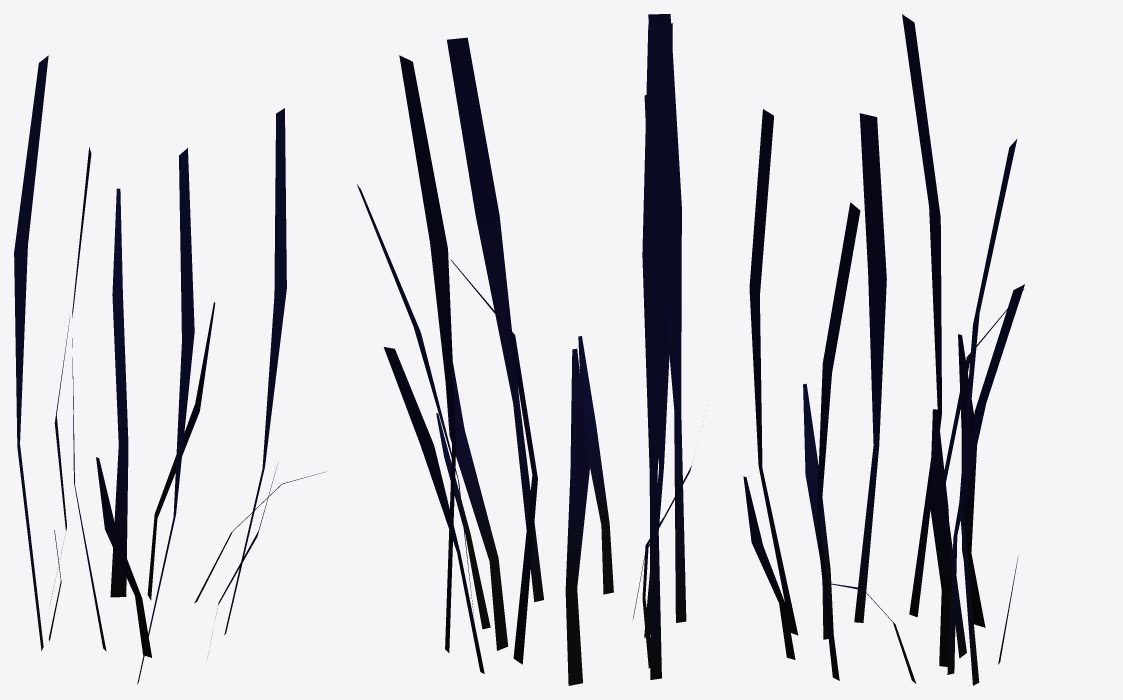
The model's file is SM_Foliage_ReedDry_02.fbx.
The picture shows the model from 3 angles, left to right: view 1: azimuth 30°, elevation 25°; view 2: azimuth 150°, elevation 25°; view 3: azimuth 270°, elevation 25°; orthographic projection. The views are drawn at different scales.
Parts seen in each view (by area): view 1: SM_Foliage_ReedDry_02; view 2: SM_Foliage_ReedDry_02; view 3: SM_Foliage_ReedDry_02.
Boxes of the visible parts, x1=… form: SM_Foliage_ReedDry_02: x1=14, y1=55, x2=324, y2=684; SM_Foliage_ReedDry_02: x1=357, y1=14, x2=691, y2=685; SM_Foliage_ReedDry_02: x1=743, y1=14, x2=1024, y2=685.
Bounding box in the file's own units: 66.14 × 78.86 × 142.
